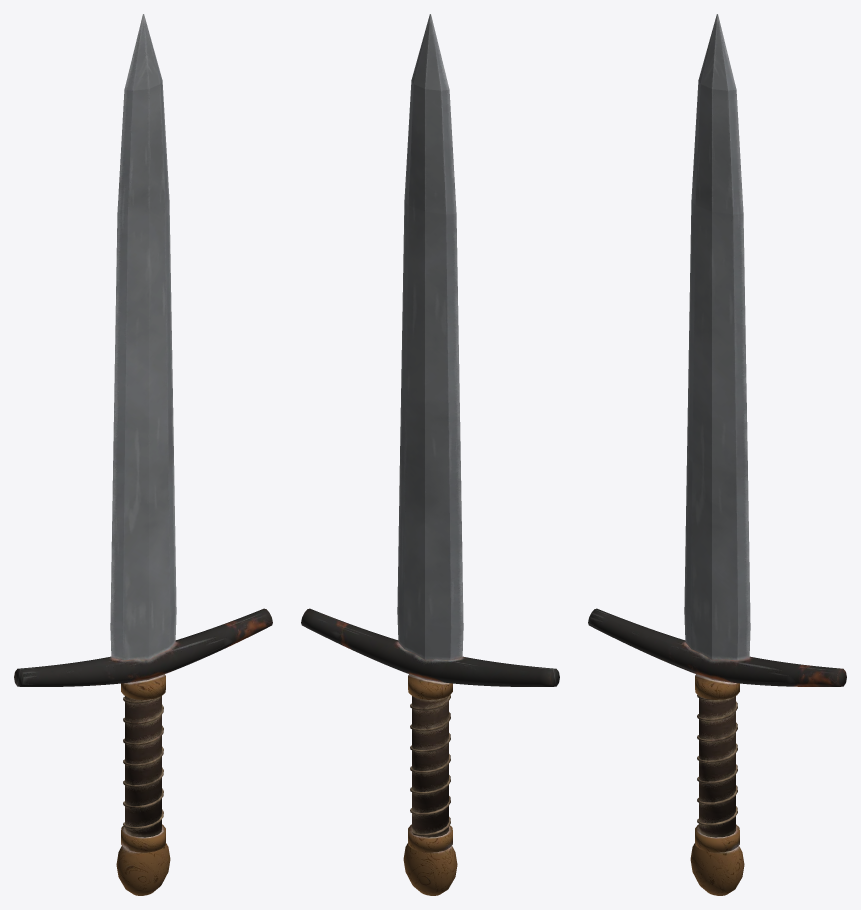
Rendered from eq_sword_2.glb.
The picture shows the model from 3 angles, left to right: view 1: azimuth 30°, elevation 25°; view 2: azimuth 150°, elevation 25°; view 3: azimuth 330°, elevation 25°; orthographic projection.
Parts seen in each view (by area): view 1: eq_sword_2; view 2: eq_sword_2; view 3: eq_sword_2.
Part boxes in pixels (bbox=[...]): eq_sword_2: bbox=[14, 14, 272, 895]; eq_sword_2: bbox=[301, 14, 559, 895]; eq_sword_2: bbox=[588, 14, 846, 895].
Bounding box in the file's own units: 0.3727 × 1.24 × 0.058.
1 material, 1 textured.
